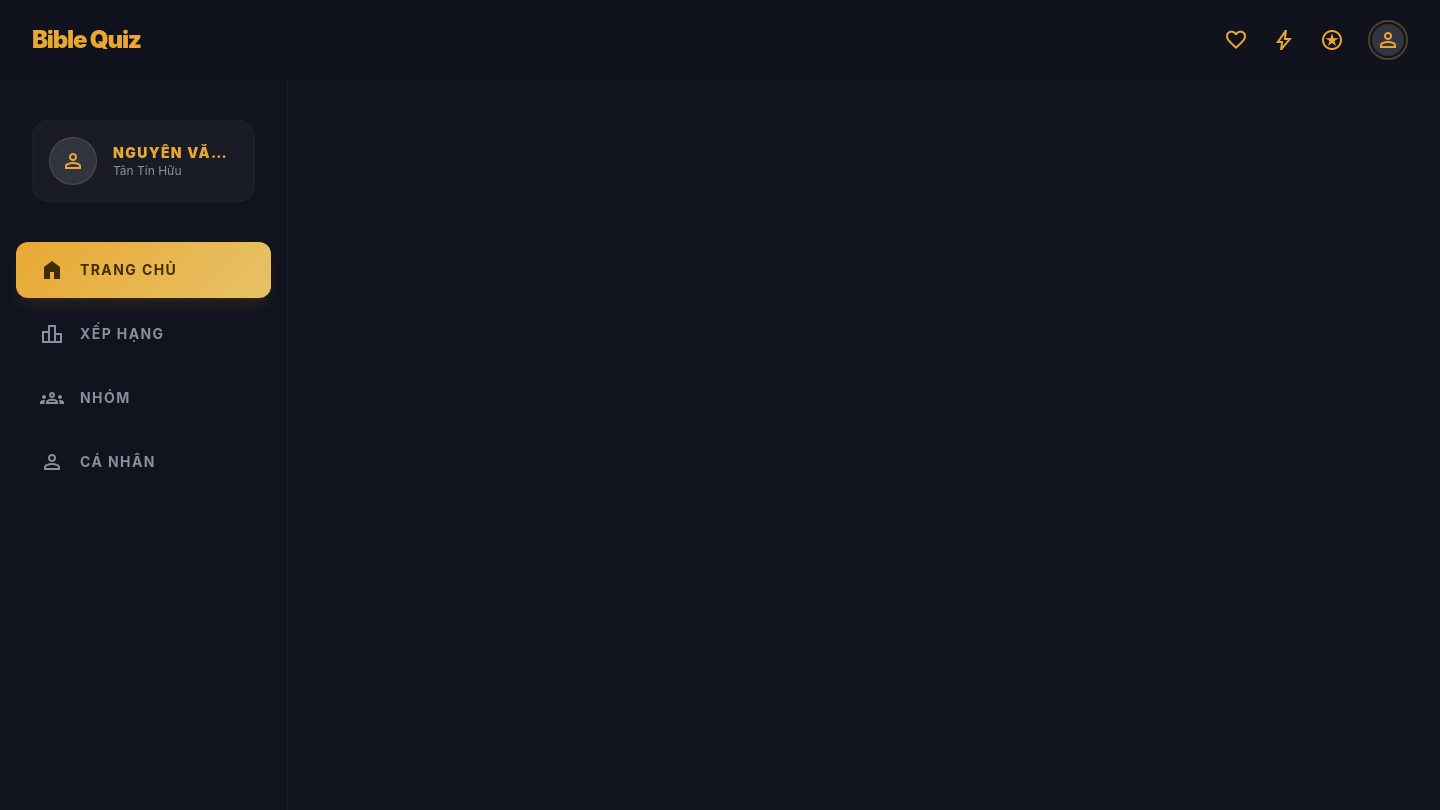
Test: AppLayout — User menu click-outside › closes the dropdown when clicking a header icon (regression guard)
Click the button with test id "user-menu-toggle".
click(1388, 40)  # box [1368,20,1408,60]
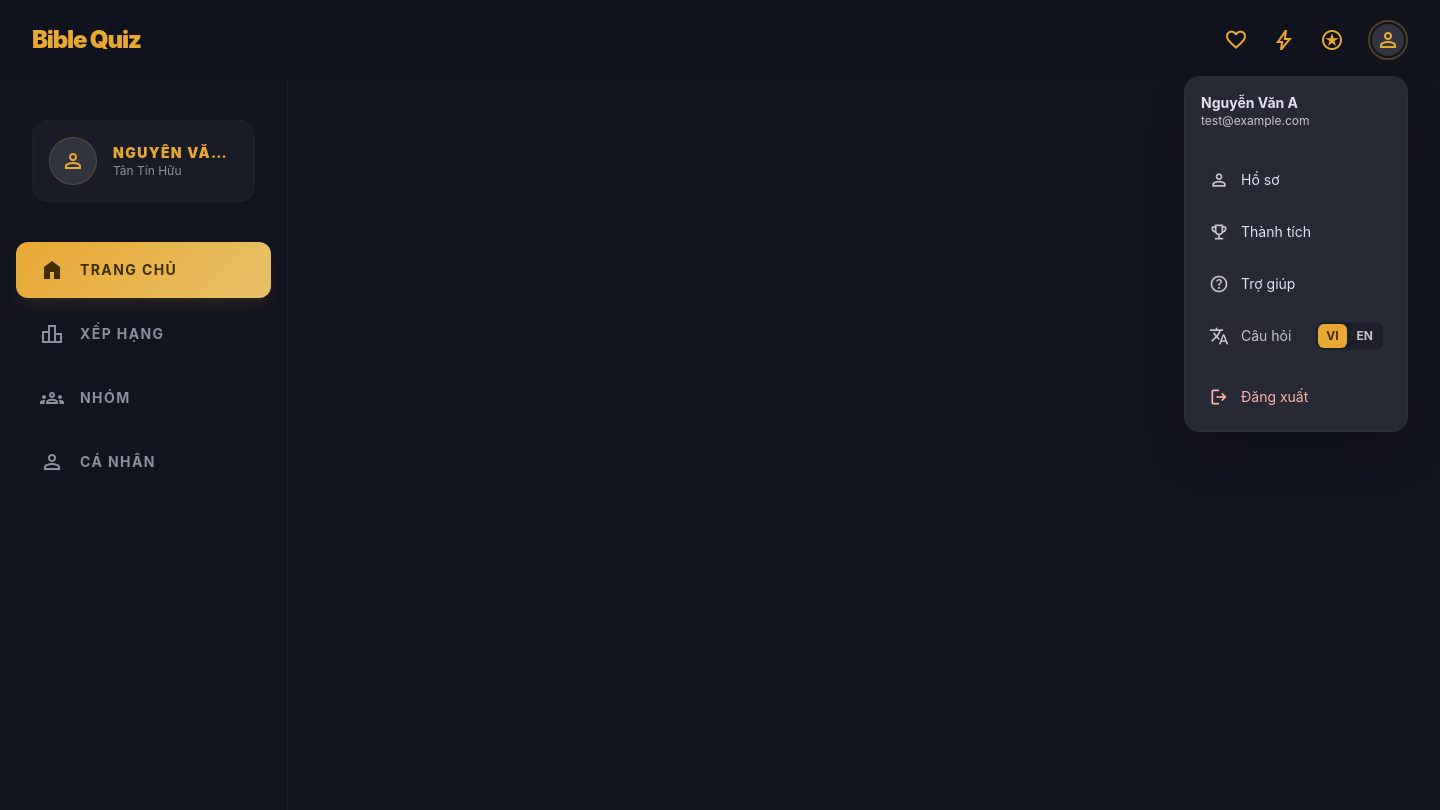
Result: the menu with test id "user-menu-dropdown" is shown at [1184,76,1408,432]
Press the mouse on the header with test id "app-header" at (720, 40), box [0,0,1439,80]
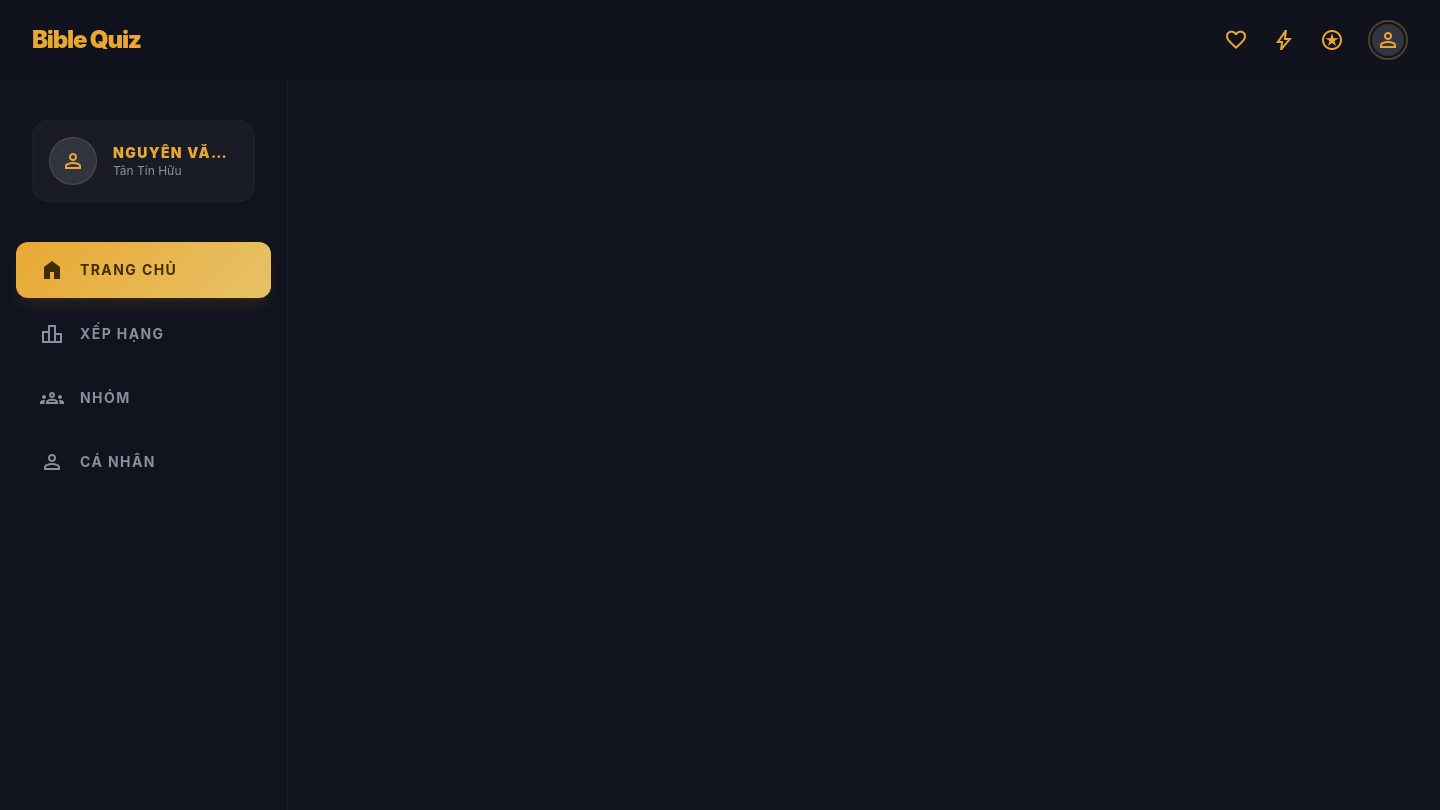
Result: the menu with test id "user-menu-dropdown" is gone
